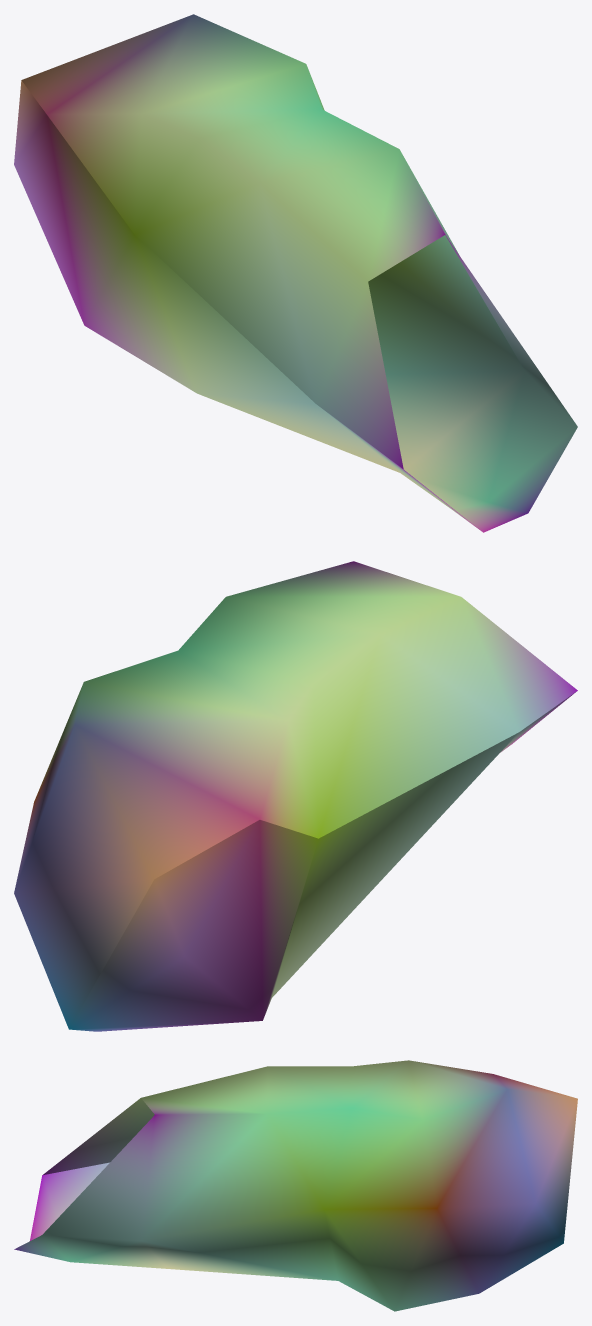
3 views of the same model, one above another, from view 1: azimuth 30°, elevation 25°; view 2: azimuth 150°, elevation 25°; view 3: azimuth 270°, elevation 25° (orthographic). The views are drawn at different scales.
Parts seen in each view (by area): view 1: part; view 2: part; view 3: part.
Part boxes in pixels (<box>): part: <box>14,14,577,532</box>; part: <box>14,561,577,1031</box>; part: <box>14,1060,577,1311</box>.
Size of the model in its own units: 14 by 16 by 40.
